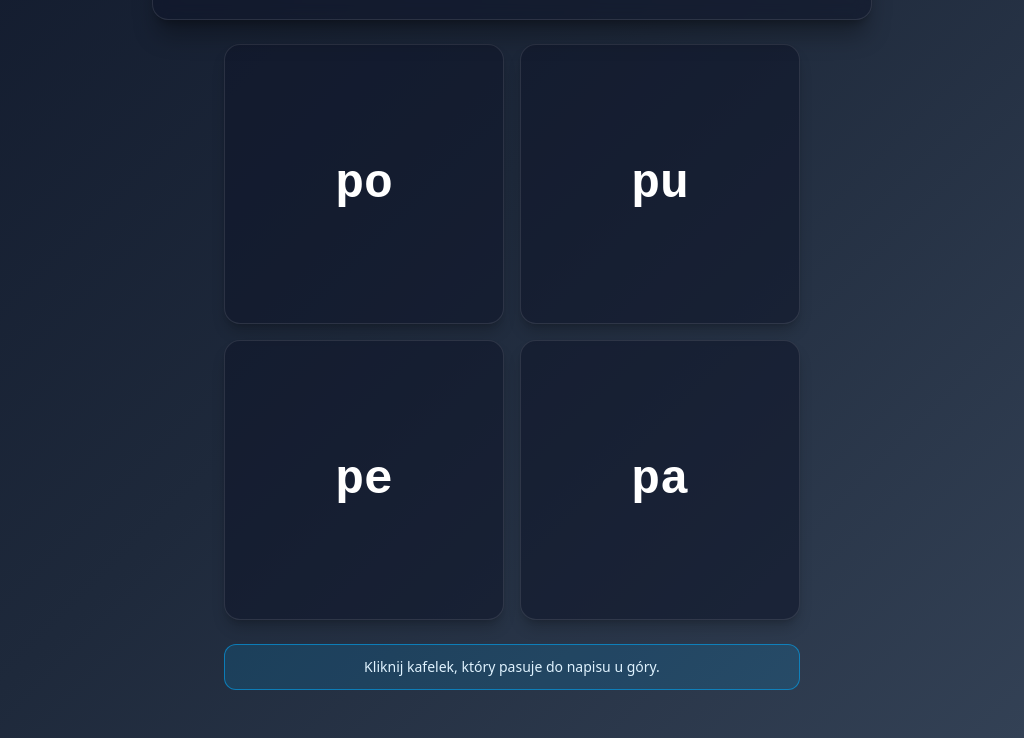
Test: LettersToLettersScreen › disables all options immediately after a choice
(page scrolled)
Click the button "pa". click: (660, 480)
box: [520, 340, 800, 620]
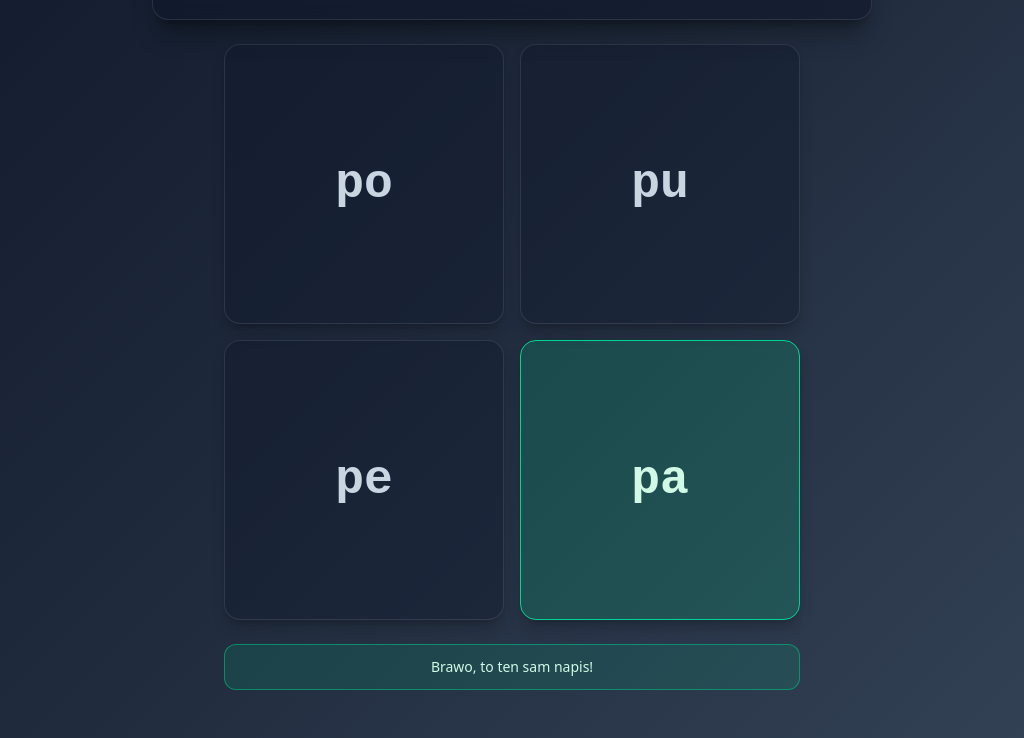
Check: the button "po" is disabled, box [224, 44, 504, 324]
Check: the button "pu" is disabled, box [520, 44, 800, 324]
Check: the button "pe" is disabled, box [224, 340, 504, 620]
